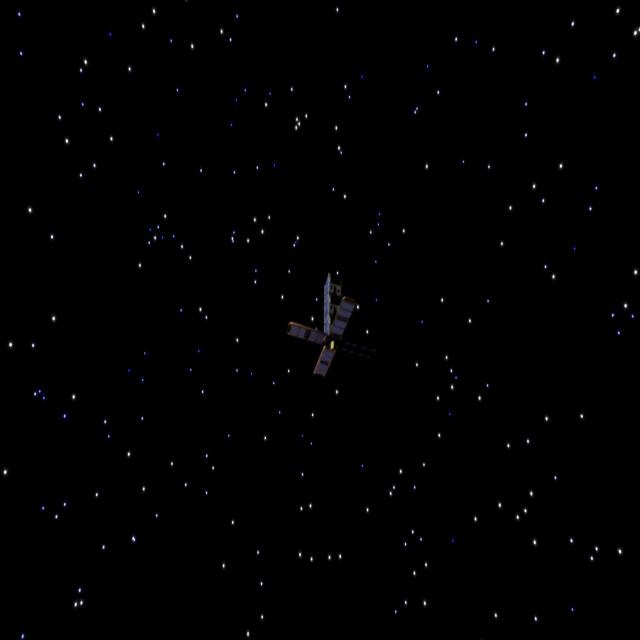medium_debris: (281, 269, 367, 387)
